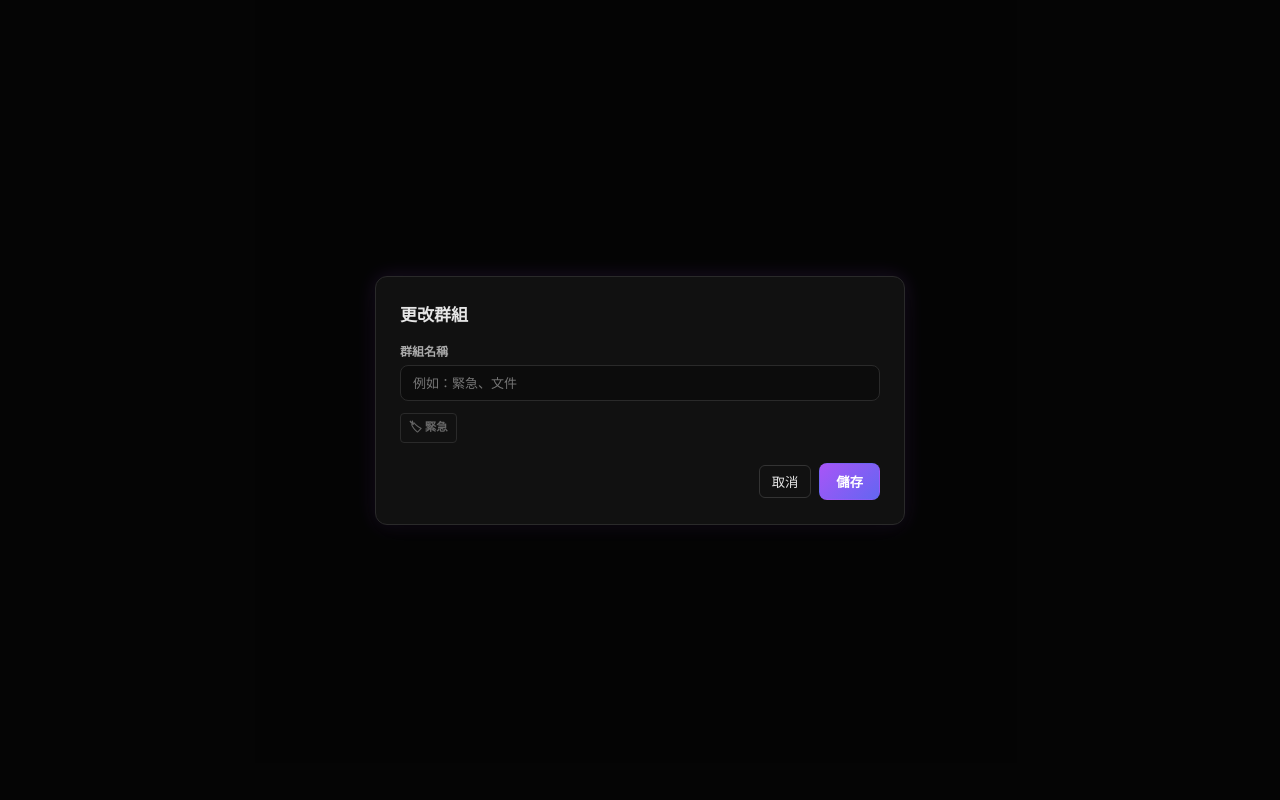
Scenario: TaskLabelDialog › 點快捷選項會填入輸入框
Click the button with test id "used-label-quick-緊急" at (428, 428), box [400, 412, 457, 442]
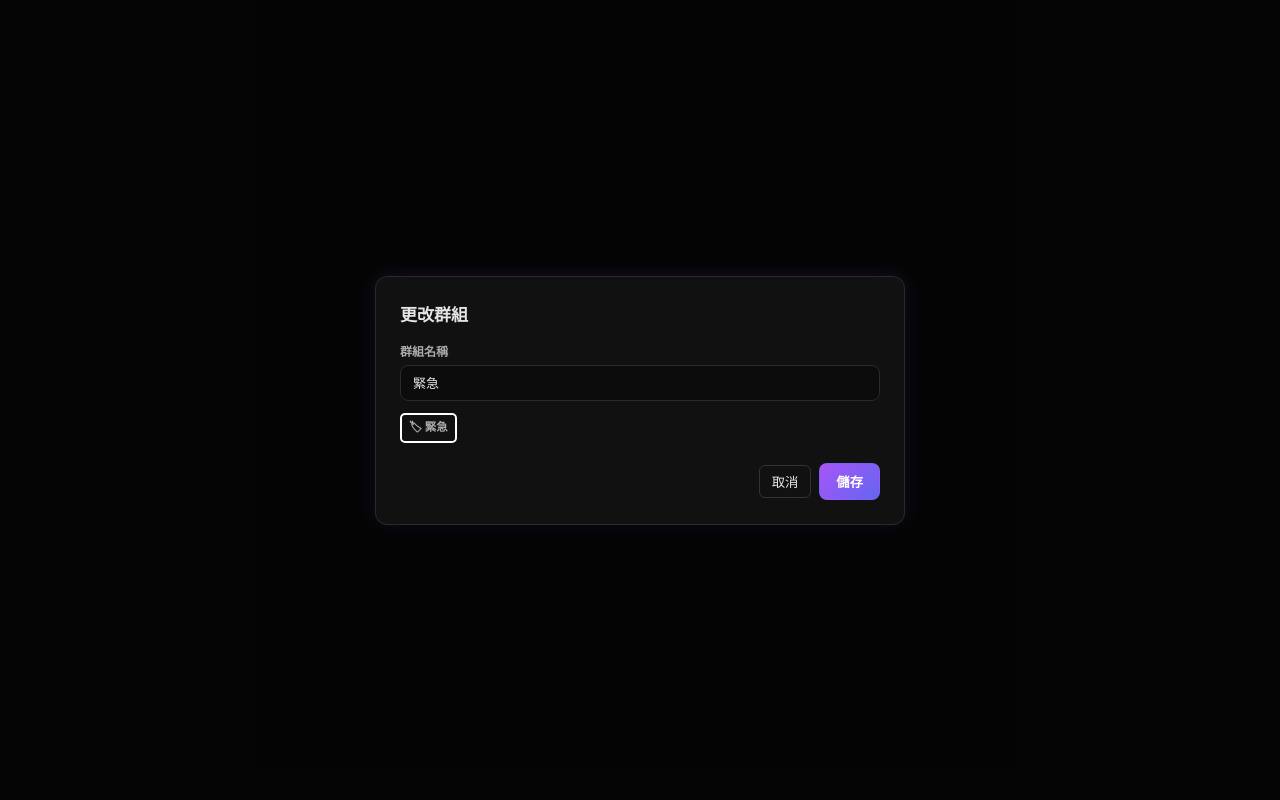
Now the field with test id "task-label-quick-input" holds "緊急", box [400, 364, 880, 400]
